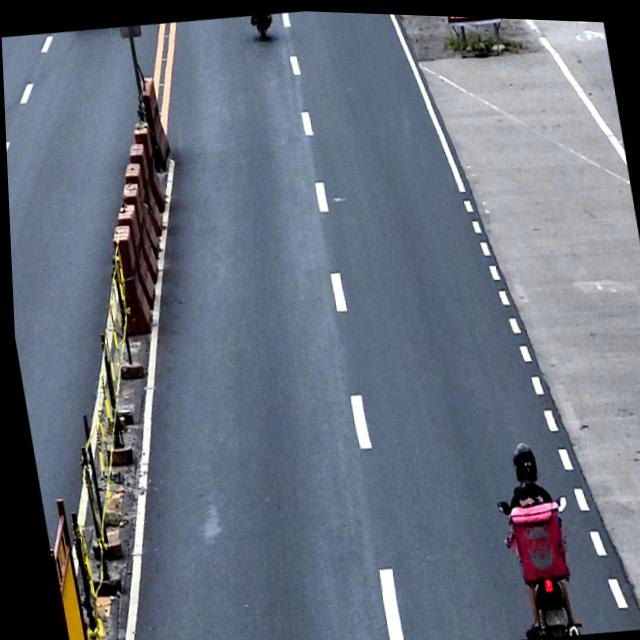Motorcycle: (489, 484, 583, 635)
